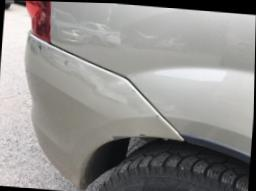Bumper: (14, 32, 132, 108)
